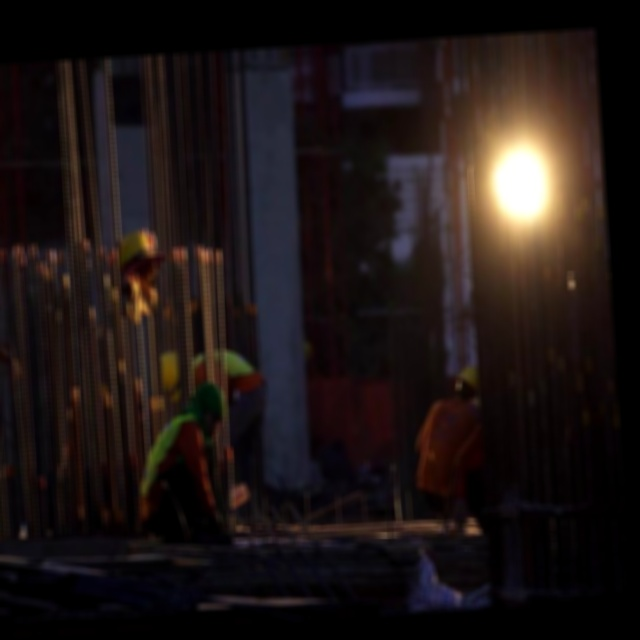Con_Casco: (117, 228, 165, 295)
Con_Chaleco: (135, 415, 205, 496)
